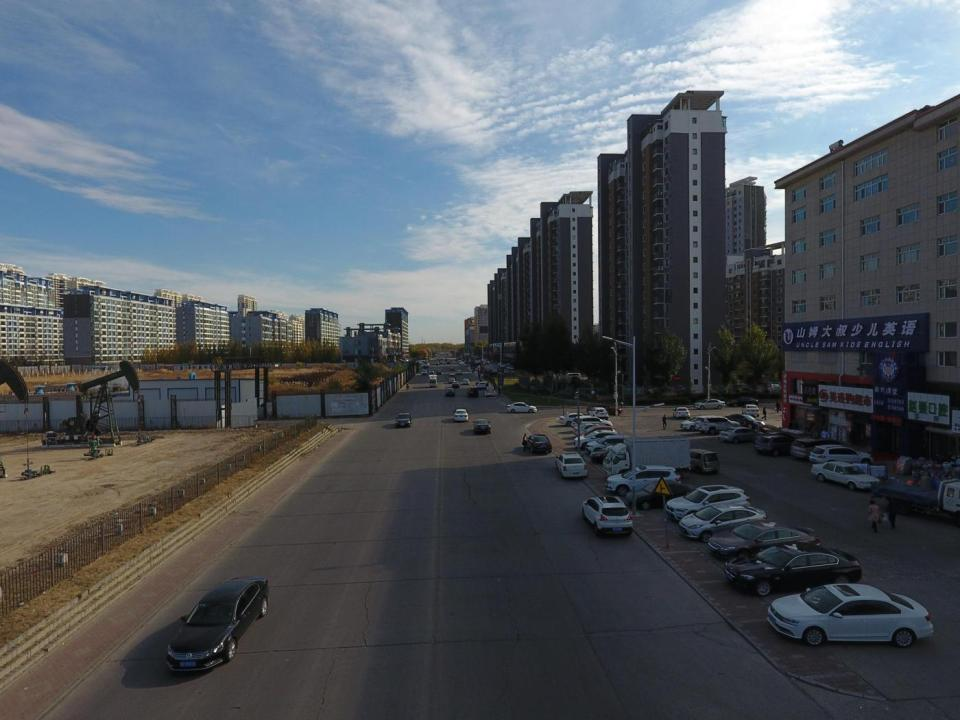car: (766, 584, 933, 648), (166, 576, 269, 675), (724, 544, 862, 594), (708, 522, 820, 562), (680, 503, 767, 537), (667, 486, 750, 521), (581, 494, 633, 538), (811, 460, 881, 492), (627, 480, 699, 509), (607, 466, 679, 495), (810, 445, 873, 468), (676, 448, 721, 474), (755, 435, 802, 456), (554, 452, 588, 480), (695, 416, 741, 434), (573, 430, 619, 448), (585, 435, 633, 452), (752, 429, 798, 446), (718, 426, 765, 442), (724, 414, 765, 428), (577, 425, 613, 440), (526, 434, 553, 454), (577, 416, 613, 430), (682, 415, 714, 430), (559, 412, 591, 425), (573, 423, 604, 436), (571, 416, 601, 429), (693, 398, 726, 409), (588, 404, 622, 414), (472, 418, 492, 435), (726, 396, 758, 406), (507, 402, 537, 412), (588, 408, 608, 420), (741, 404, 759, 417), (396, 413, 412, 427), (454, 408, 468, 422), (673, 407, 690, 418), (466, 386, 478, 397), (445, 388, 455, 396), (477, 382, 486, 390), (451, 381, 460, 388), (504, 369, 515, 374), (462, 378, 470, 384), (448, 377, 456, 383), (448, 374, 456, 379), (506, 366, 515, 370), (497, 362, 505, 366), (436, 369, 442, 374), (482, 360, 489, 364), (464, 363, 471, 367), (422, 370, 427, 375), (456, 370, 461, 374), (429, 369, 434, 373), (450, 366, 454, 370), (425, 363, 430, 366), (435, 362, 439, 365), (460, 363, 464, 366), (422, 364, 425, 366), (439, 361, 442, 363), (459, 362, 462, 364), (450, 359, 452, 361)
truck: (870, 479, 960, 528), (603, 435, 690, 477), (590, 442, 639, 461), (428, 374, 437, 387), (477, 365, 493, 372), (486, 386, 495, 396), (479, 367, 488, 372)
van: (789, 438, 852, 458), (446, 361, 450, 364), (445, 359, 447, 361)
